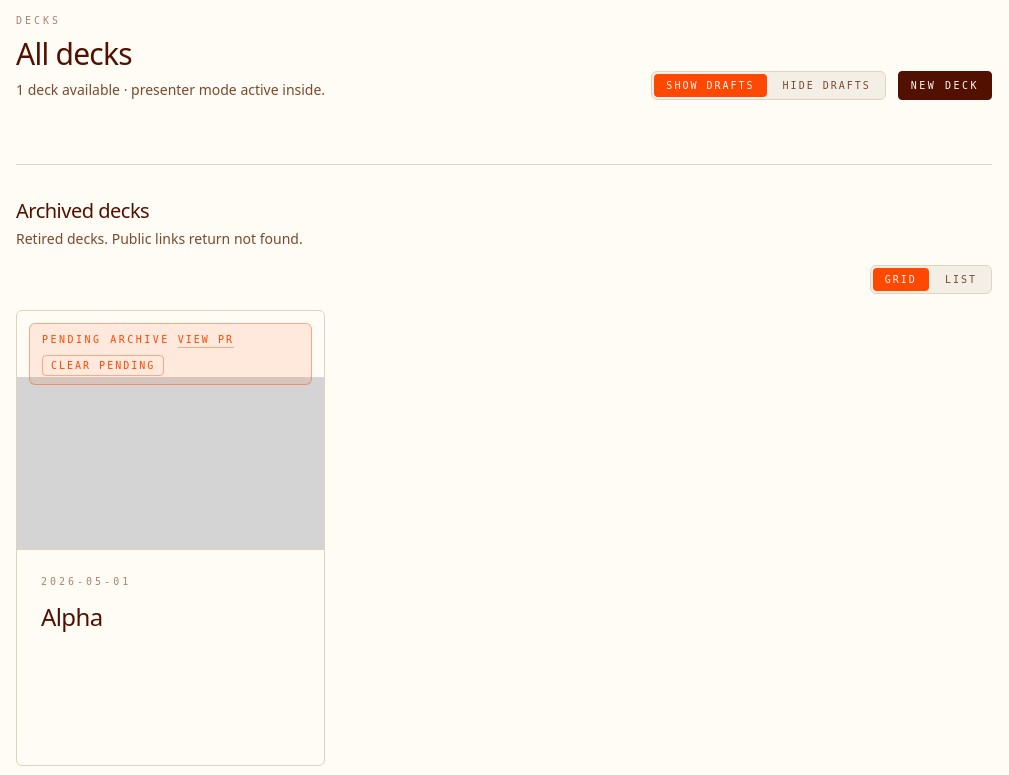
Test case: AdminIndex — pending source actions (#246) › Clear pending surfaces a server error inline next to the pill
This screenshot has width=1009, height=775.
Click the button with test id "pending-clear-alpha". click: point(103, 366)
box: [42,355,164,376]
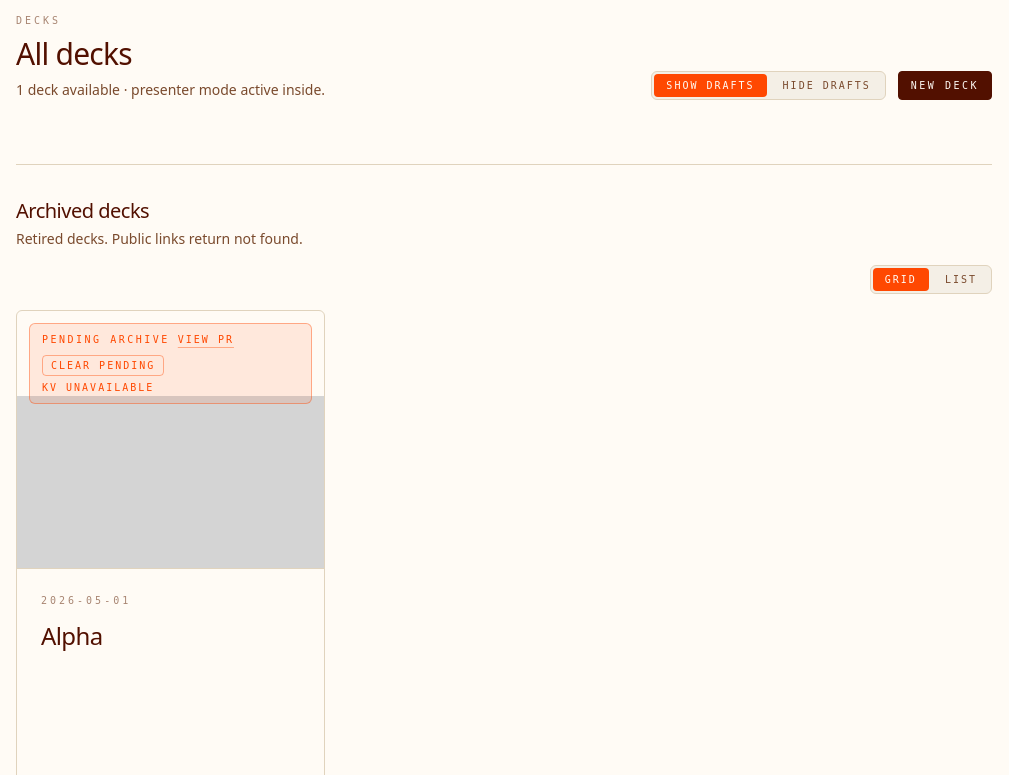
Check: the message with test id "pending-clear-error-alpha" reads "kv unavailable", box [42,382,154,393]
